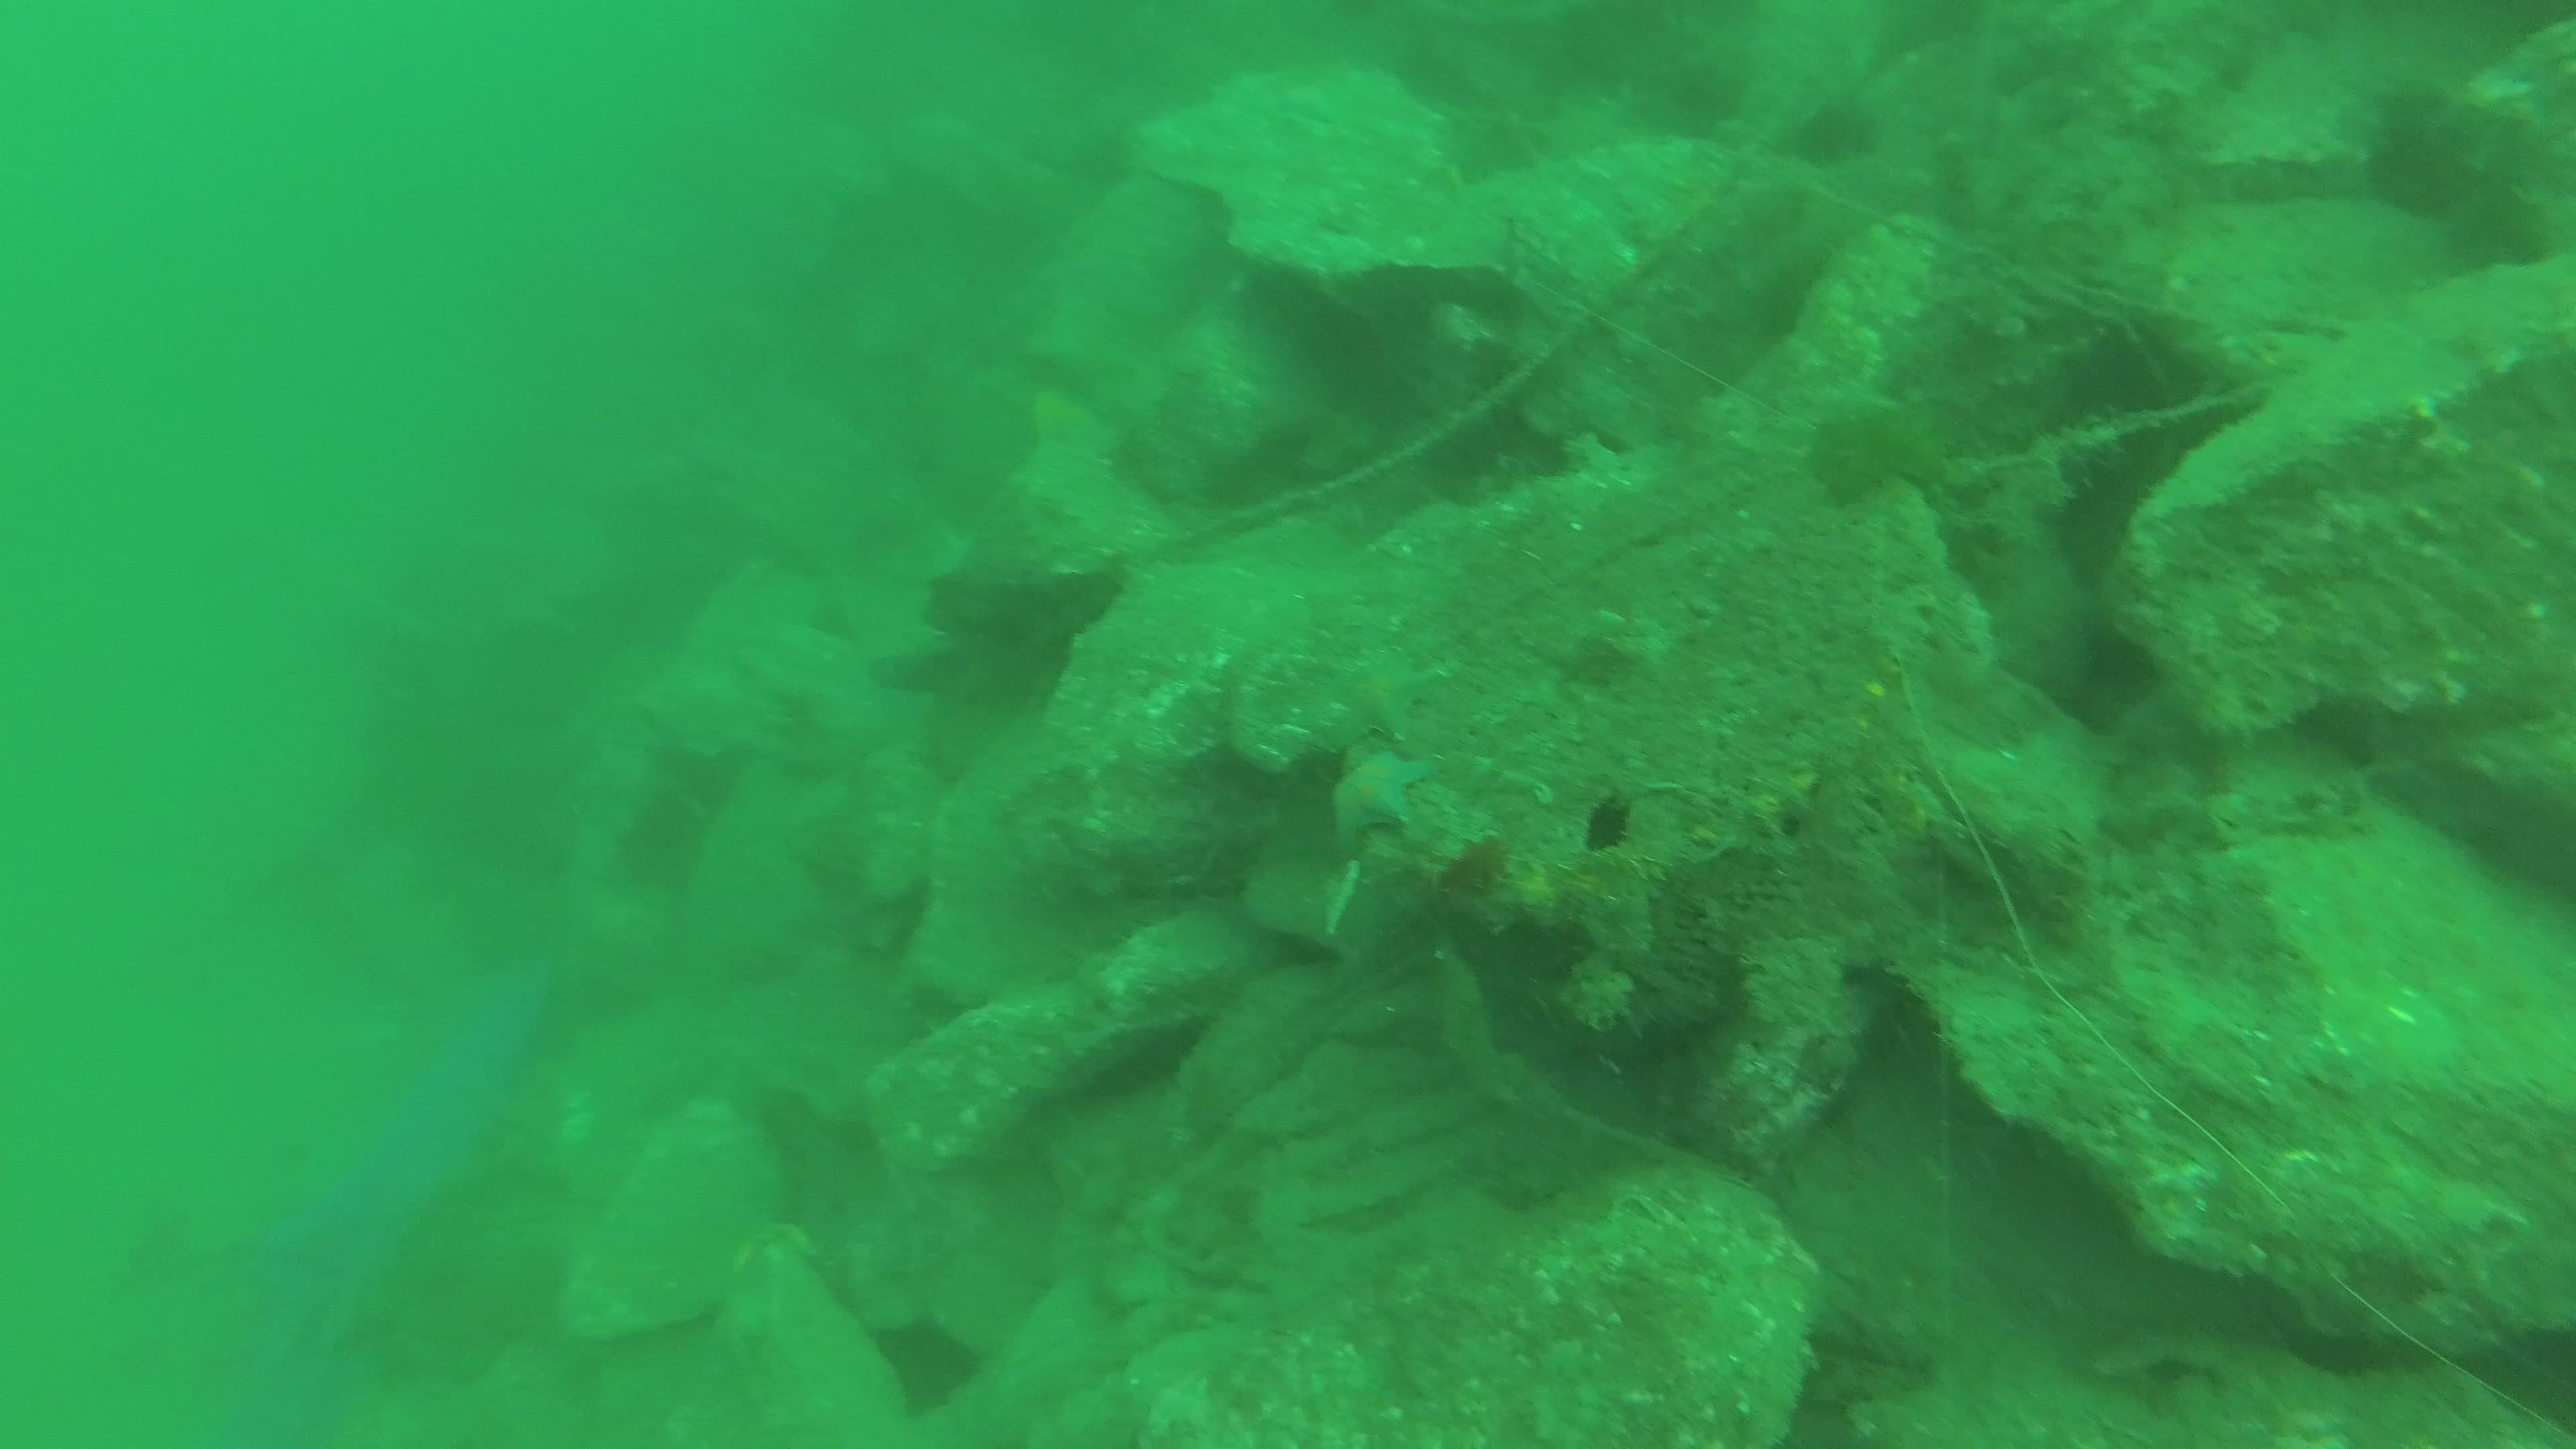starfish: (1304, 642, 1451, 748), (1323, 745, 1438, 855)
